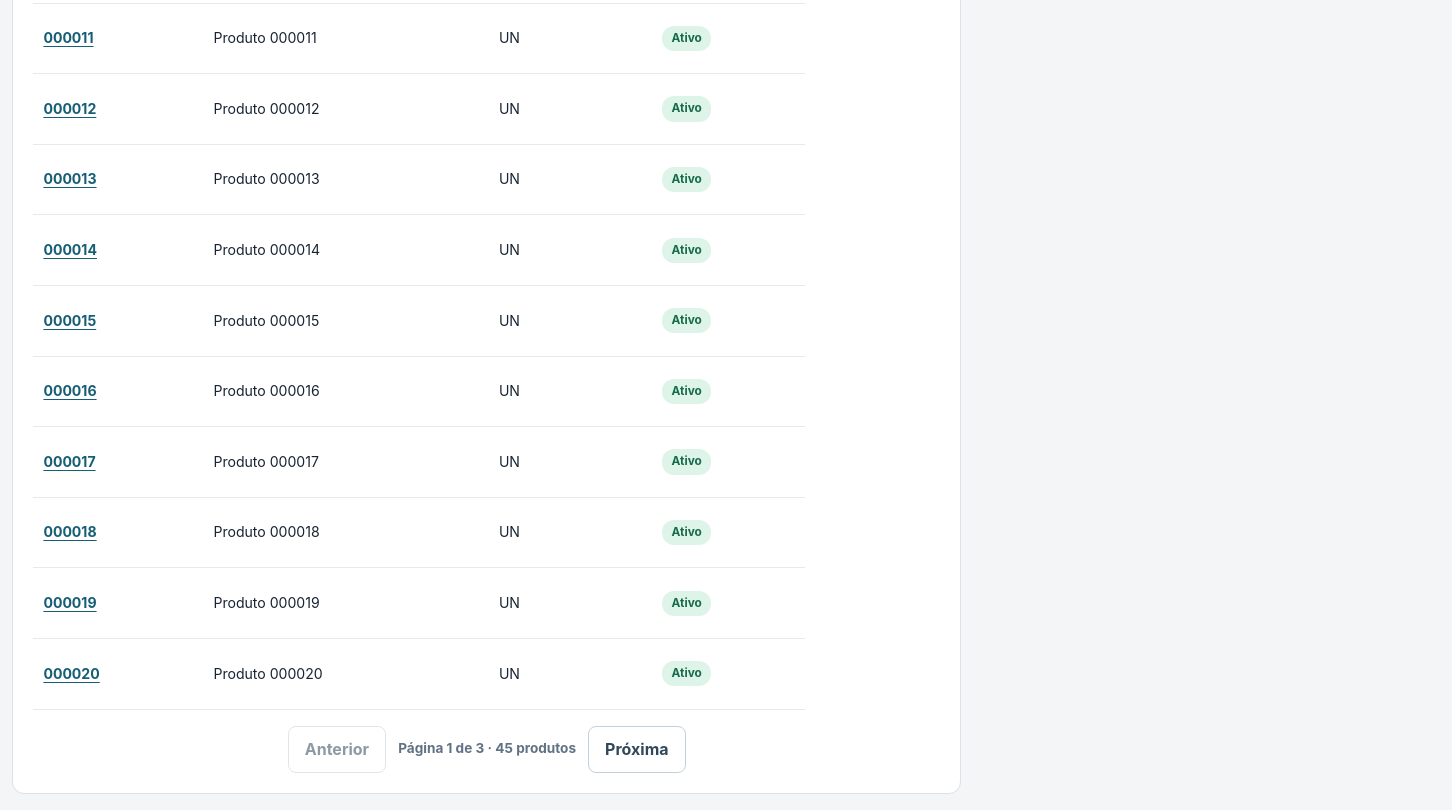
Scenario: Paginação de produtos › reinicia a navegação ao mudar a quantidade por página
(page scrolled)
Click the button "Próxima" at (637,749), box [588,726,686,773]
Wait 300 ms
(page scrolled)
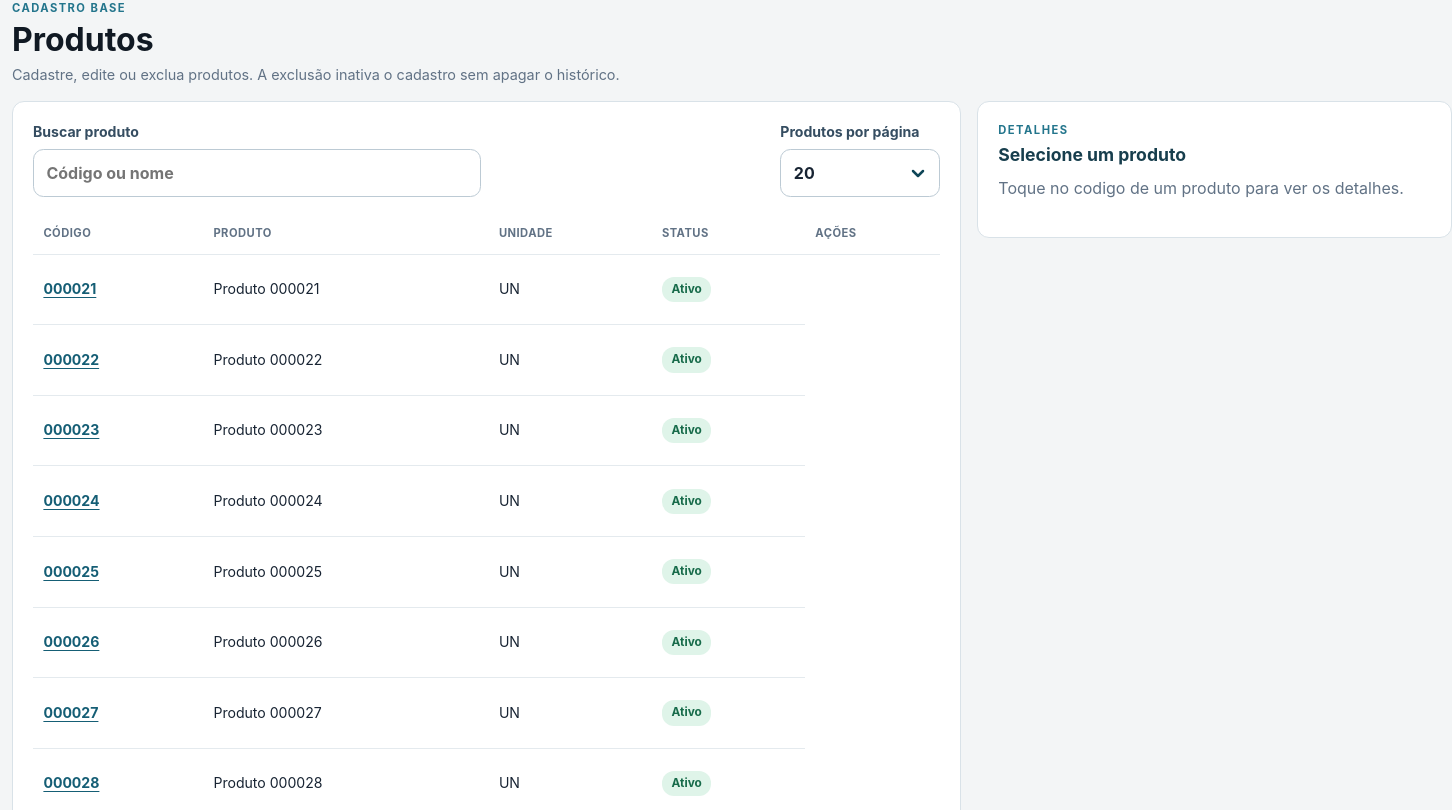
Select "50" in the dropdown labelled "Produtos por página" at (860,173), box [780,149,940,197]
Wait 300 ms
(page scrolled)
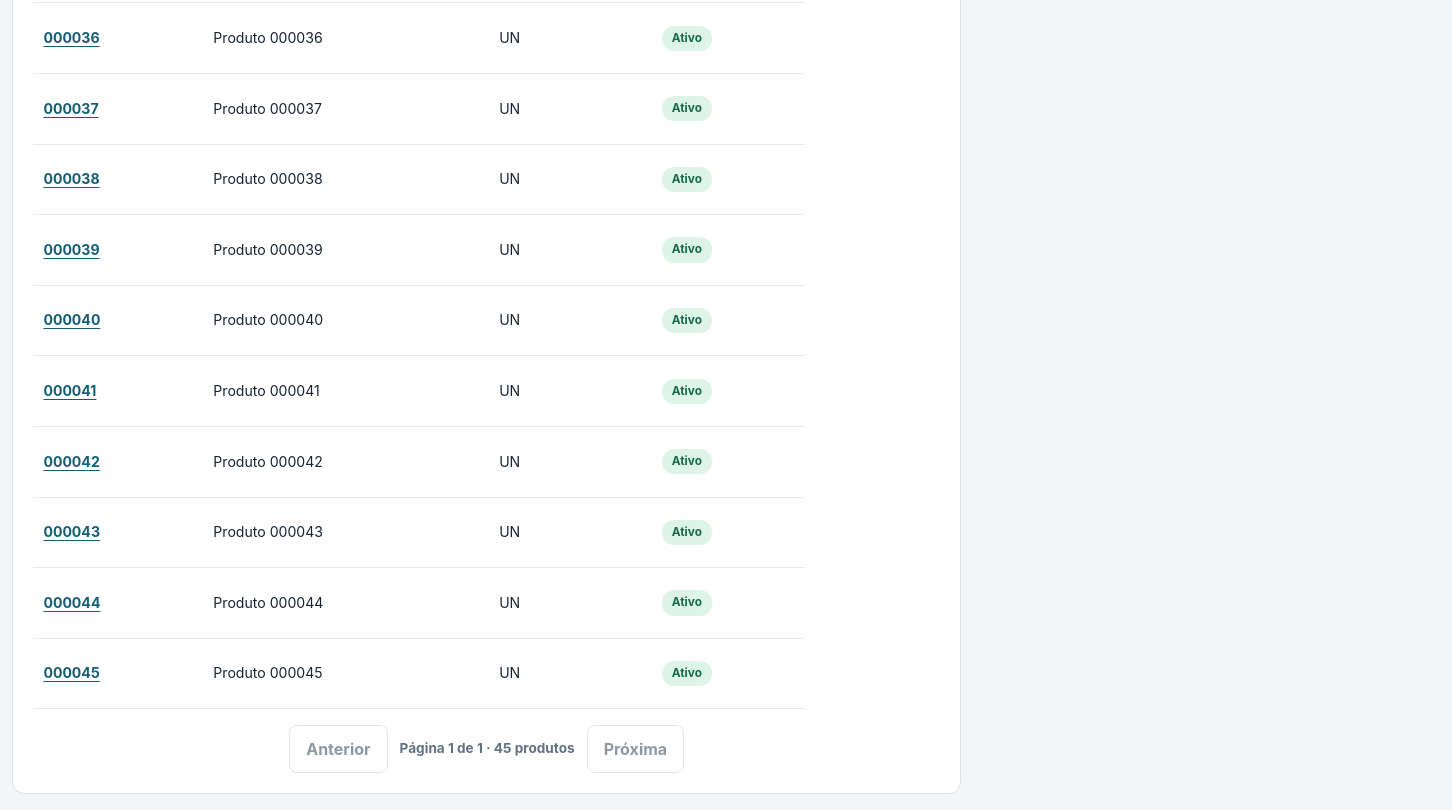
Expected: the button "Próxima" is disabled, [587,725,684,773]
